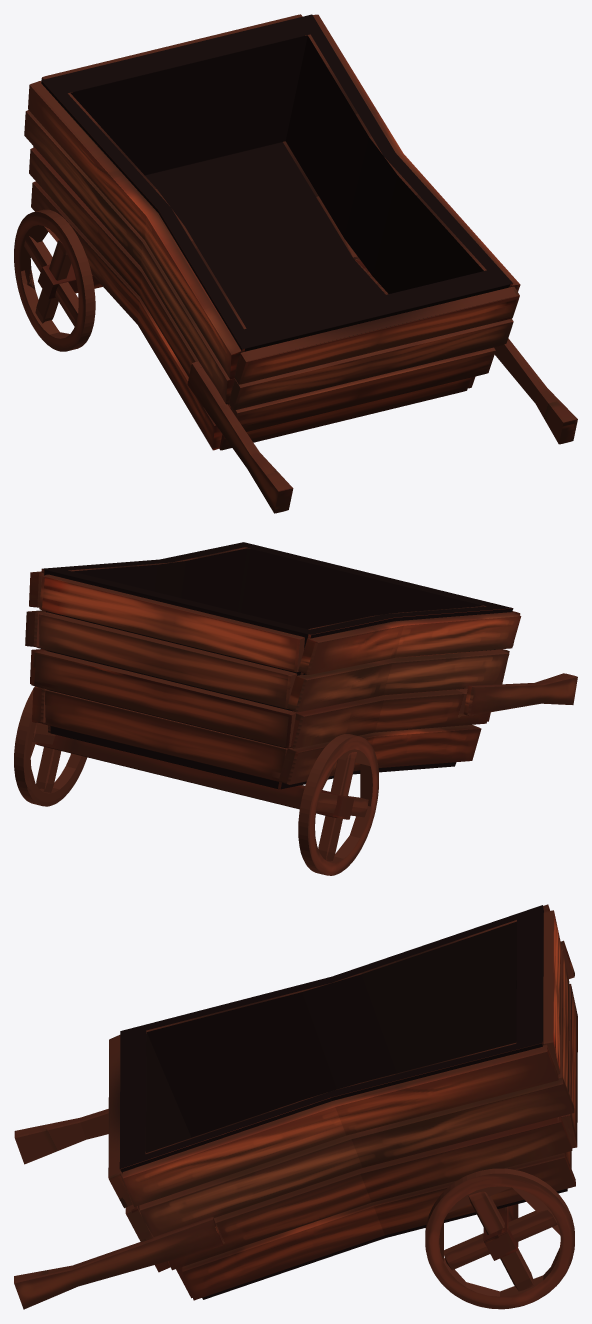
The model's file is carroça.fbx.
3 views of the same model, one above another, from view 1: azimuth 30°, elevation 25°; view 2: azimuth 150°, elevation 25°; view 3: azimuth 270°, elevation 25° (orthographic). The views are drawn at different scales.
Parts seen in each view (by area): view 1: Cube.072, Cylinder.001; view 2: Cube.072, Cylinder.001, Cylinder.010; view 3: Cube.072, Cylinder.010.
Boxes of the visible parts, bbox=[...] form: Cube.072: bbox=[24, 14, 577, 513]; Cylinder.001: bbox=[14, 209, 95, 351]; Cube.072: bbox=[25, 542, 577, 819]; Cylinder.001: bbox=[298, 734, 378, 875]; Cylinder.010: bbox=[14, 686, 87, 806]; Cube.072: bbox=[14, 904, 577, 1309]; Cylinder.010: bbox=[425, 1168, 574, 1309].
Size of the model in its own units: 327 by 260 by 498.
3 materials, 3 textured.
